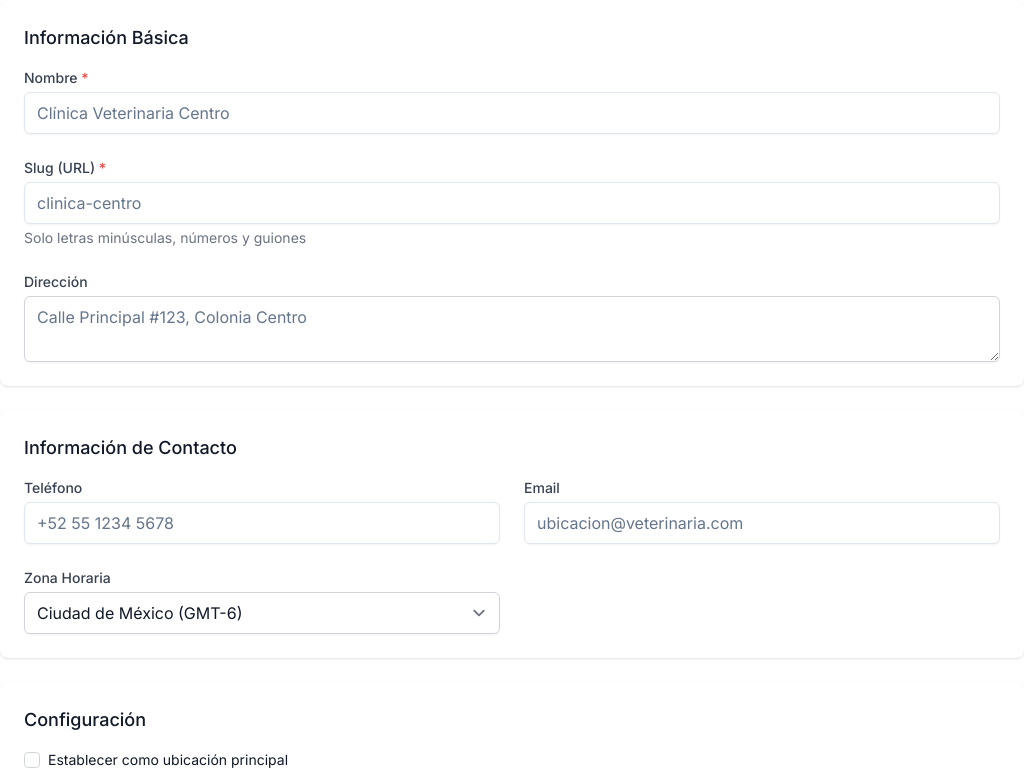
LocationForm › Slug Auto-Generation › should auto-generate slug from name in create mode
The width and height of the screenshot is (1024, 768).
Type "Clinica Centro" into the field labelled "Nombre *". click: (512, 113)
box: [24, 92, 1000, 134]
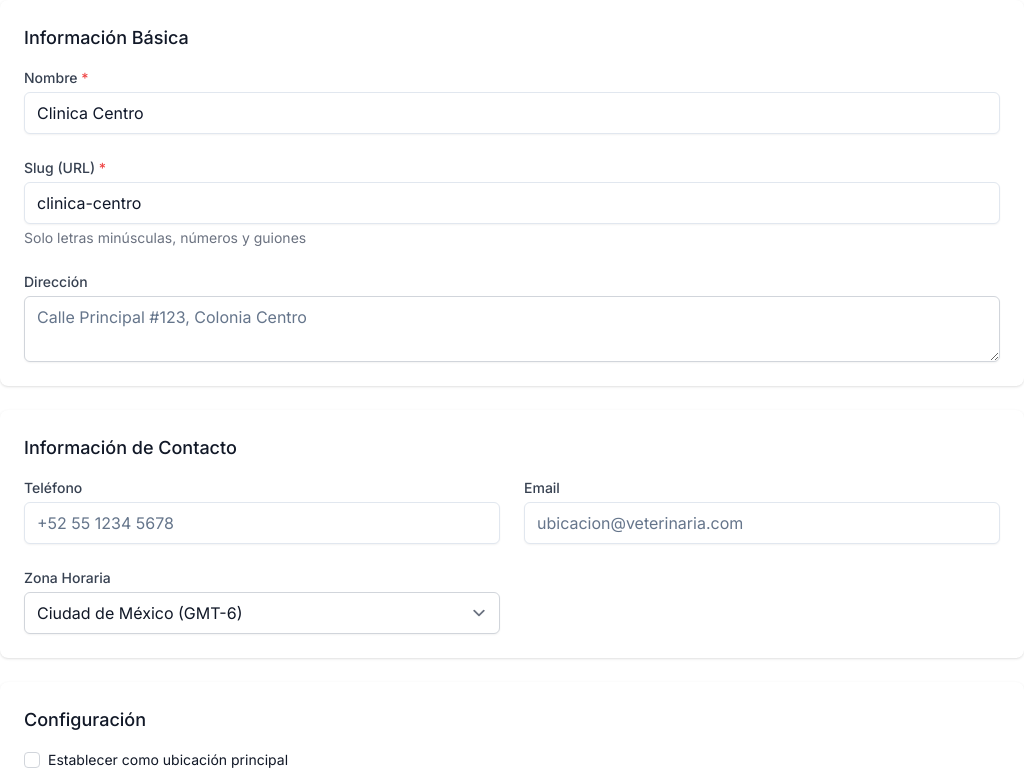
expect the field labelled "Slug (URL) *" holds "clinica-centro": met, box [24, 182, 1000, 224]
